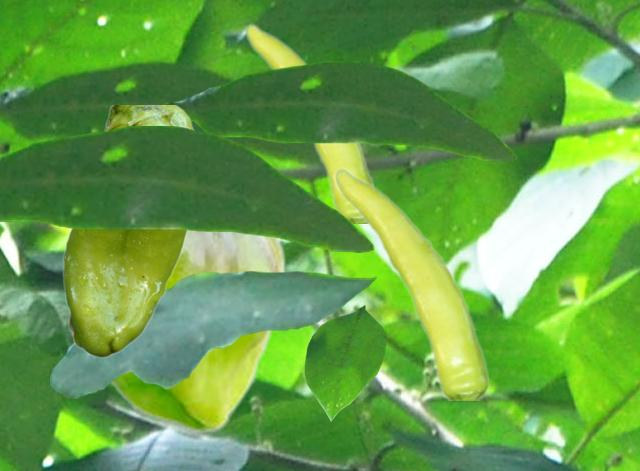green_chili: (109, 231, 286, 433), (334, 166, 487, 399), (62, 105, 194, 357), (245, 22, 375, 222)
